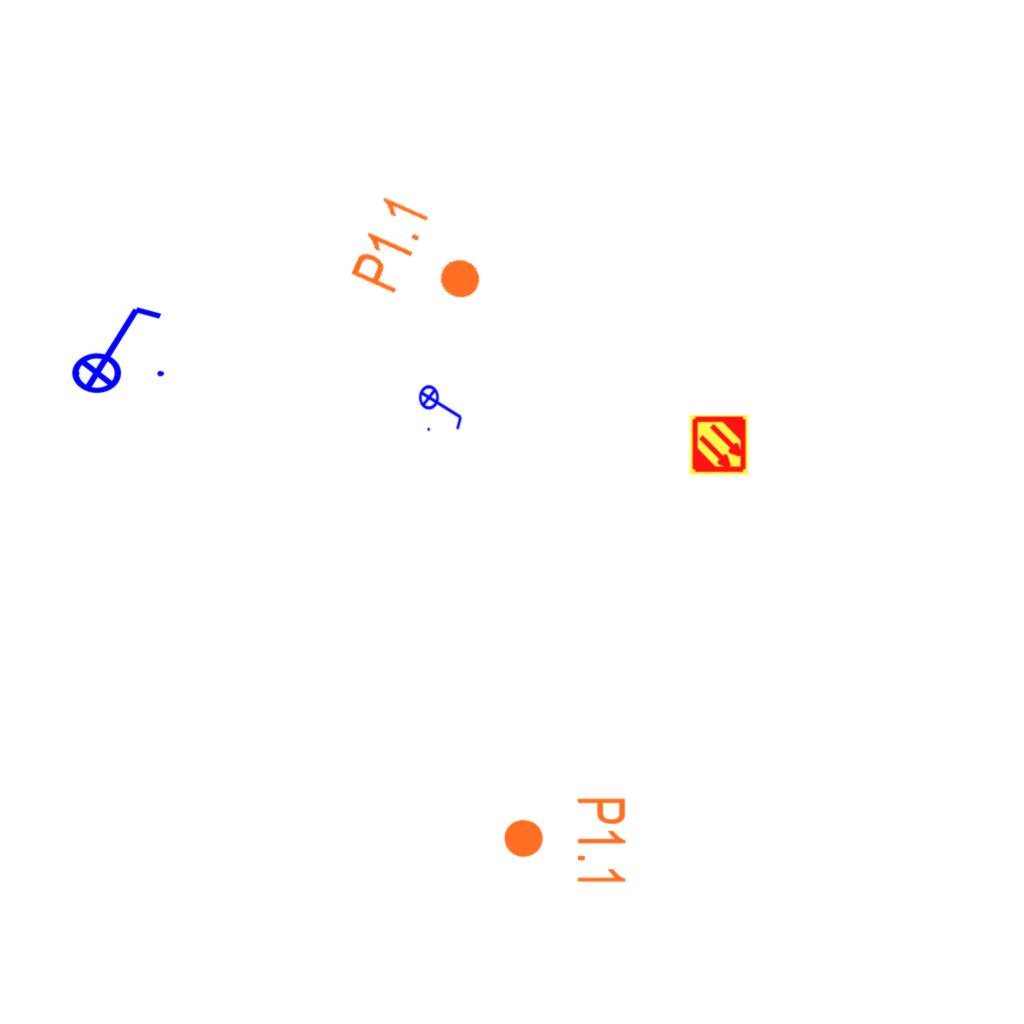ASR_Ansaugrauchmelder: (688, 414, 750, 476)
Ausschalter_beleuchtet: (58, 299, 170, 395), (418, 378, 466, 434)
Downlight_LED_Einbauleuchten_Flur: (346, 190, 501, 328), (501, 795, 629, 888)
